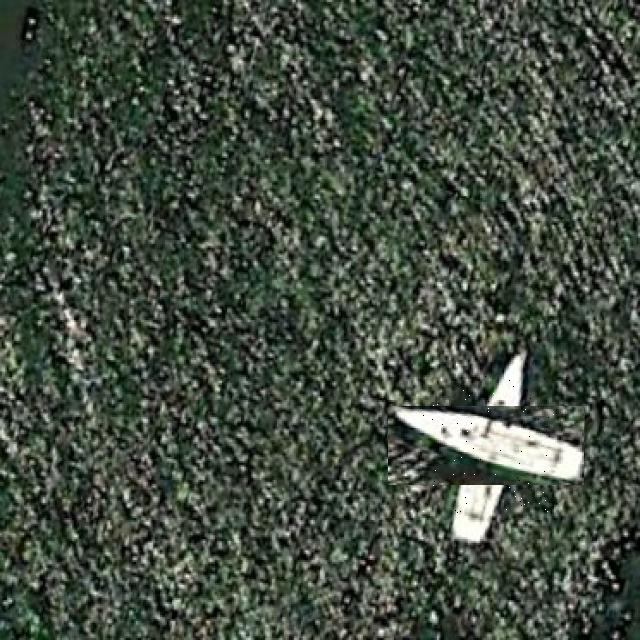boat: (417, 376, 555, 514)
